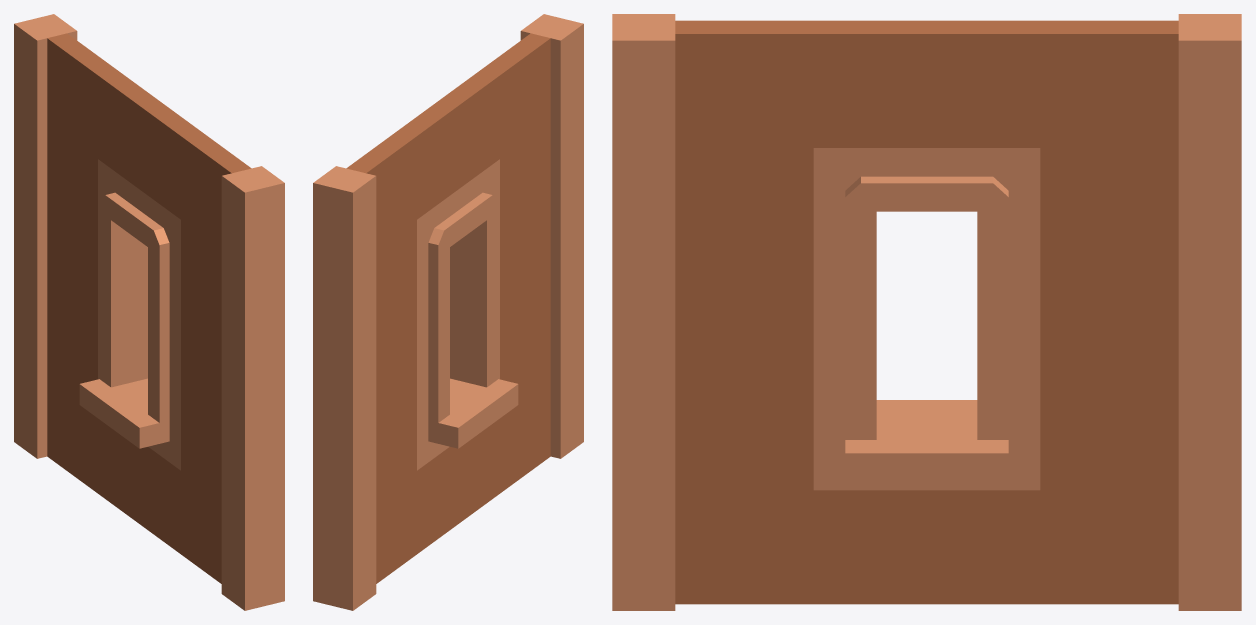
The model's file is wallWoodWindowSmall.fbx.
The picture shows the model from 3 angles, left to right: view 1: azimuth 30°, elevation 25°; view 2: azimuth 150°, elevation 25°; view 3: azimuth 270°, elevation 25°; orthographic projection. The views are drawn at different scales.
Parts seen in each view (by area): view 1: wallWoodWindowSmall; view 2: wallWoodWindowSmall; view 3: wallWoodWindowSmall.
Part boxes in pixels (box(x1,y1,x2,y2)): wallWoodWindowSmall: box(14, 14, 284, 610); wallWoodWindowSmall: box(313, 14, 583, 610); wallWoodWindowSmall: box(612, 14, 1241, 610).
Size of the model in its own units: 2 by 10 by 10.
